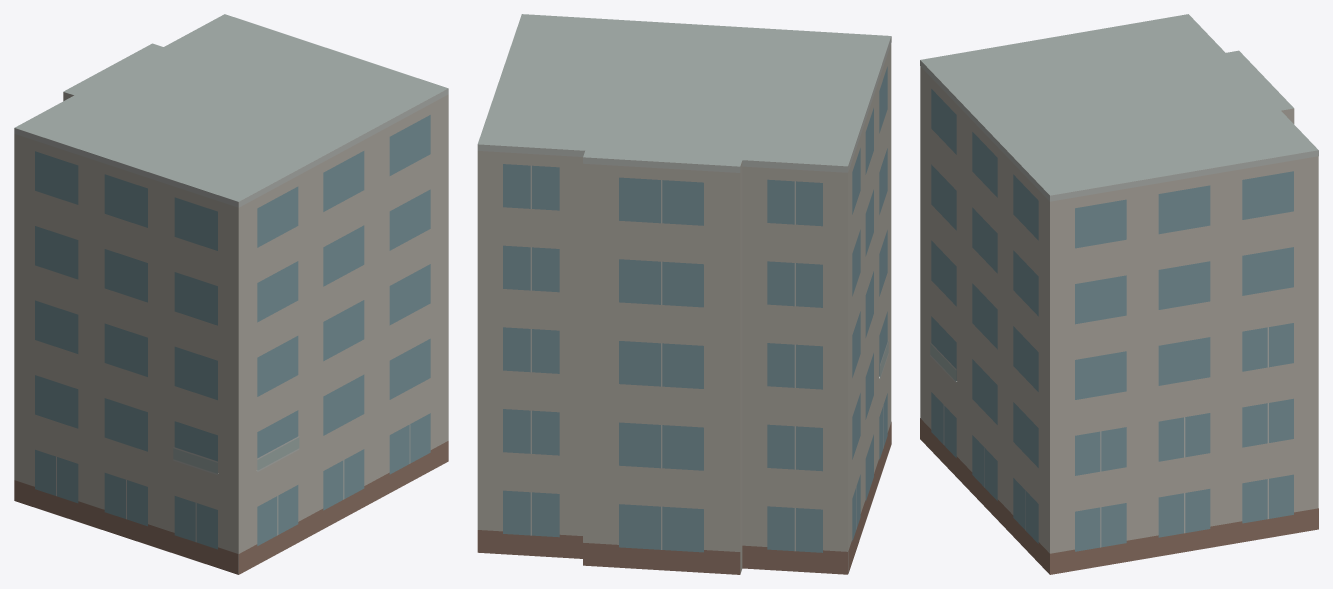
The model's file is survey-upis-32755303.glb.
3 views of the same model, side by side, from view 1: azimuth 30°, elevation 25°; view 2: azimuth 150°, elevation 25°; view 3: azimuth 270°, elevation 25° (orthographic). The views are drawn at different scales.
Parts seen in each view (by area): view 1: survey-upis-32755303.tmp; view 2: survey-upis-32755303.tmp; view 3: survey-upis-32755303.tmp.
Boxes of the visible parts, <box> form: survey-upis-32755303.tmp: <box>14,14,448,574</box>; survey-upis-32755303.tmp: <box>477,14,891,574</box>; survey-upis-32755303.tmp: <box>920,14,1318,574</box>.
Bounding box in the file's own units: 15.88 × 15.45 × 14.73.
